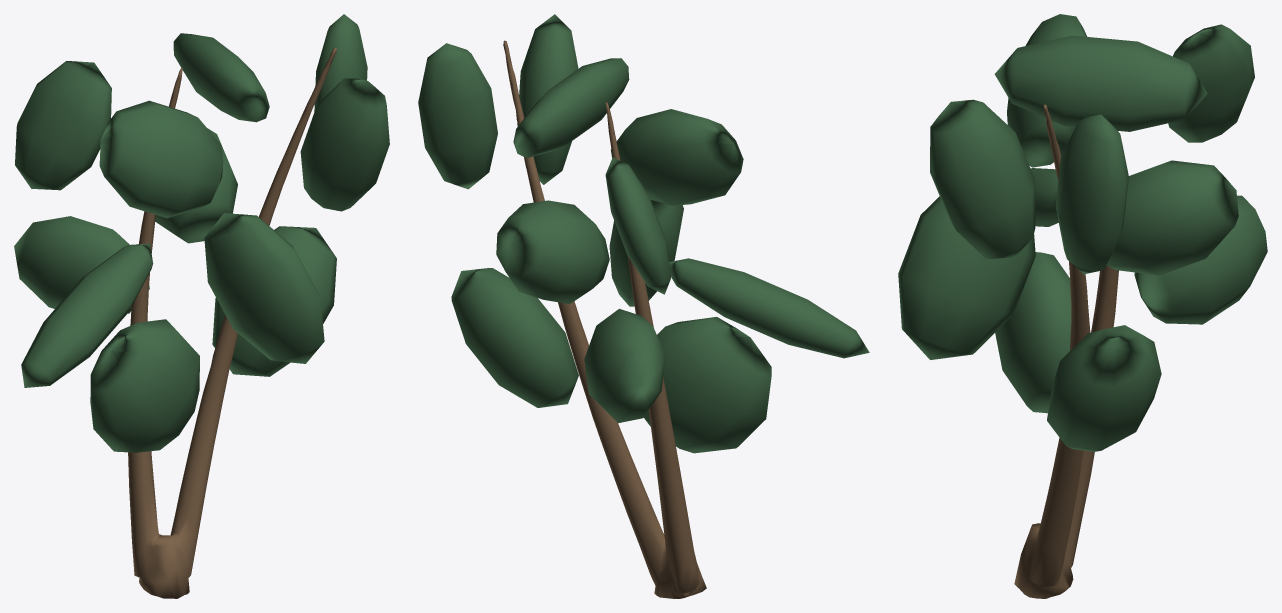
The model's file is Myrte_2_Niveau2.fbx.
3 renders of one model, left to right at view 1: azimuth 30°, elevation 25°; view 2: azimuth 150°, elevation 25°; view 3: azimuth 270°, elevation 25°, orthographic. The views are drawn at different scales.
Parts seen in each view (by area): view 1: Myrte_2_Niveau2_Jeu; view 2: Myrte_2_Niveau2_Jeu; view 3: Myrte_2_Niveau2_Jeu.
Part boxes in pixels (x1,y1,x2,y2): Myrte_2_Niveau2_Jeu: (14,14,389,598); Myrte_2_Niveau2_Jeu: (418,14,869,598); Myrte_2_Niveau2_Jeu: (898,14,1267,598).
Size of the model in its own units: 118 by 147 by 83.71.
